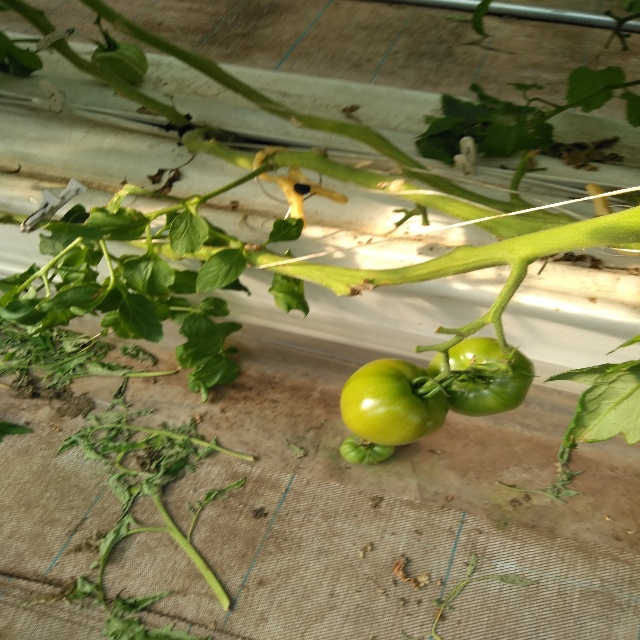b_green: (340, 359, 449, 445), (428, 336, 536, 418), (90, 41, 147, 84), (340, 433, 394, 464)
